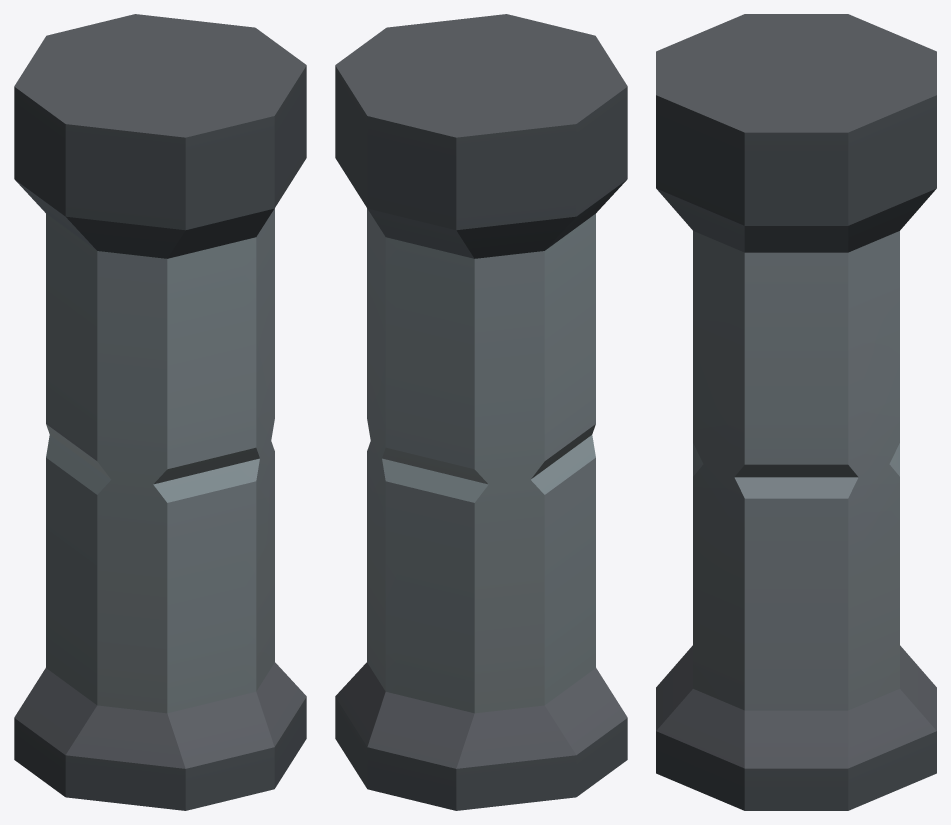
The model's file is d_pillar.glb.
The picture shows the model from 3 angles, left to right: view 1: azimuth 30°, elevation 25°; view 2: azimuth 150°, elevation 25°; view 3: azimuth 270°, elevation 25°; orthographic projection.
Visible parts, largest first — view 1: pillar; view 2: pillar; view 3: pillar.
Boxes of the visible parts, x1,y1,x2,y2 form: pillar: (14,14,306,810); pillar: (335,14,627,810); pillar: (656,14,936,810).
Size of the model in its own units: 1.5 by 4 by 1.5.
1 material, 1 textured.
